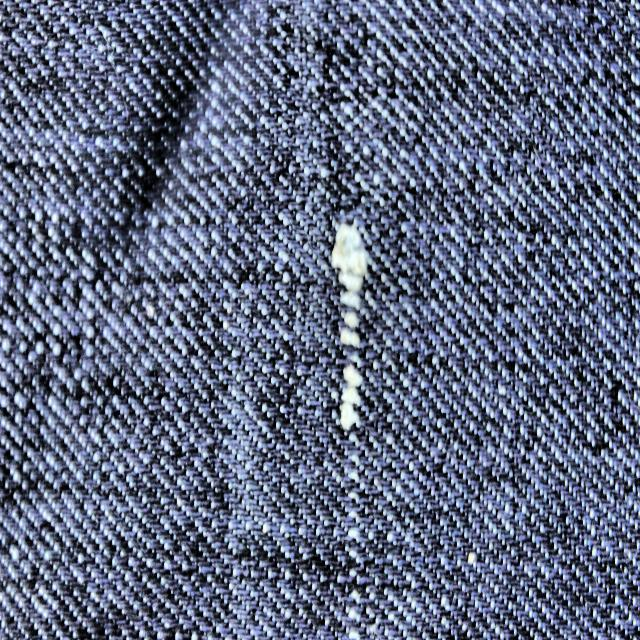baekra: (334, 215, 369, 640)
